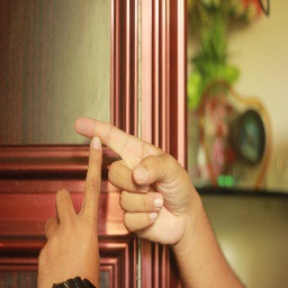T: (47, 107, 164, 256)
